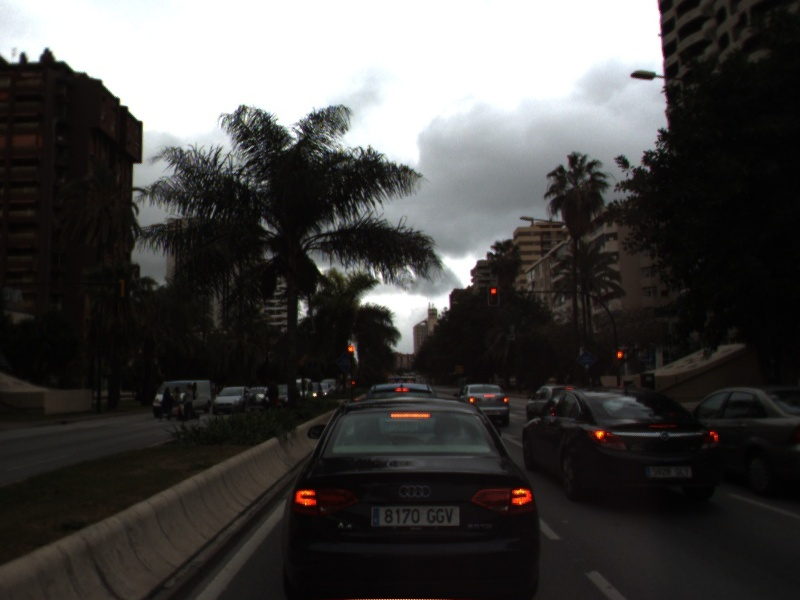STRAIGHT: (499, 430, 525, 449)
